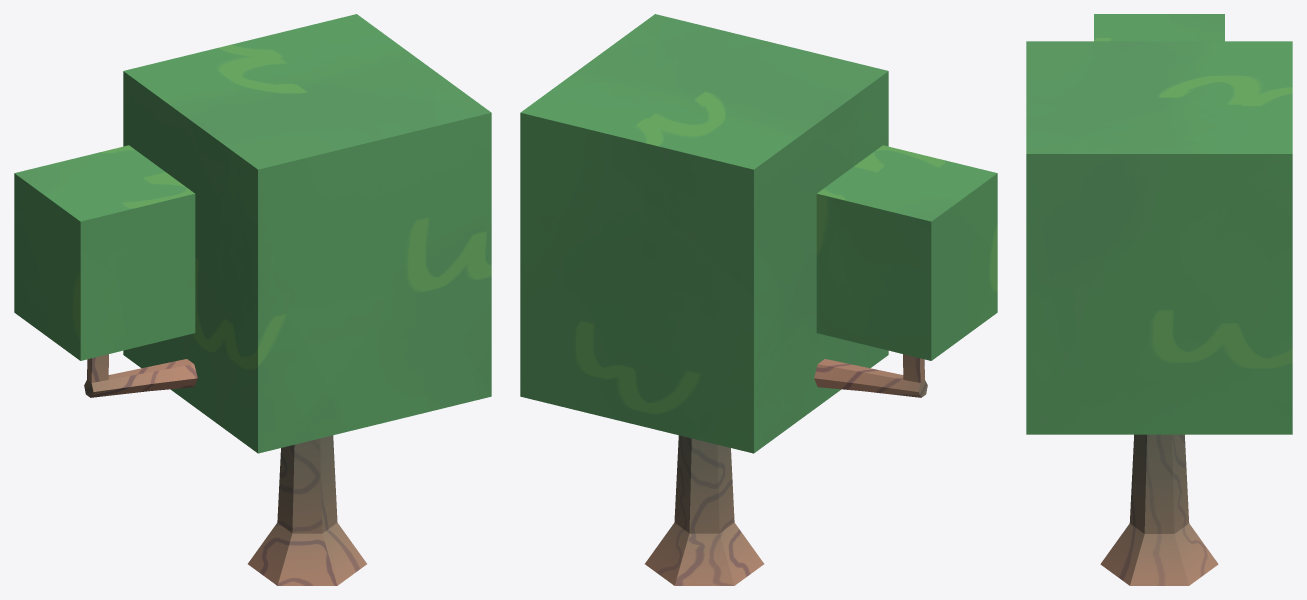
The model's file is Tree1.fbx.
The picture shows the model from 3 angles, left to right: view 1: azimuth 30°, elevation 25°; view 2: azimuth 150°, elevation 25°; view 3: azimuth 270°, elevation 25°; orthographic projection.
Visible parts, largest first — view 1: Cylinder.004; view 2: Cylinder.004; view 3: Cylinder.004.
Part boxes in pixels (<box>): Cylinder.004: <box>14,14,491,585</box>; Cylinder.004: <box>520,14,997,585</box>; Cylinder.004: <box>1026,14,1292,585</box>.
Bounding box in the file's own units: 838 × 1004 × 520.
2 materials, 2 textured.
